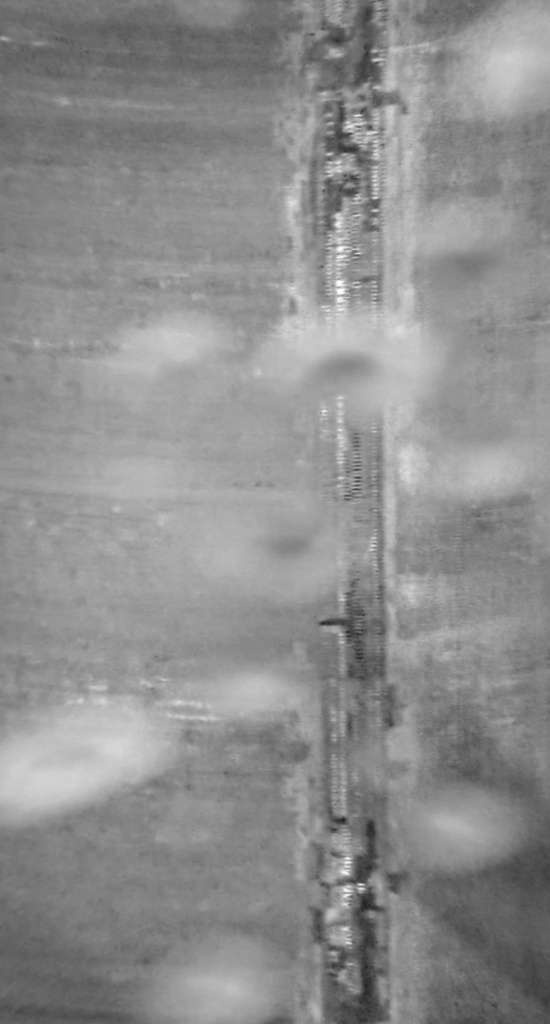splice: (295, 1, 398, 1024)
